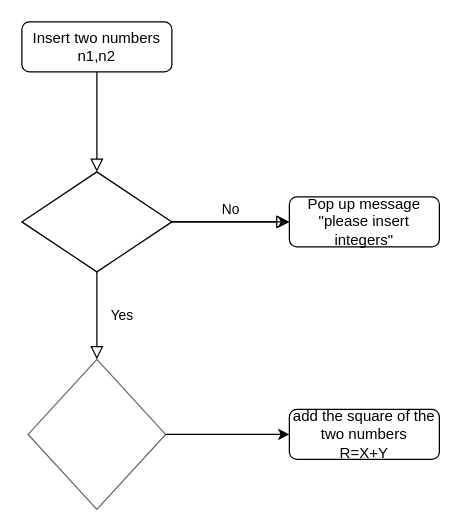
This 461x531 diagram has some shape labels left out. The centre of each missing label's shape, as x and y in pixels:
Are the numbers integers: [96,221]
square each number x=n1*n1 y=n2*n2: [96,433]
